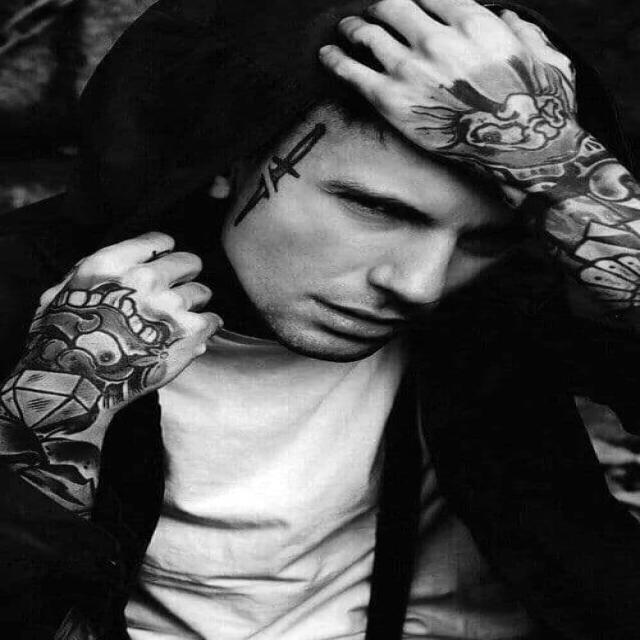front: (248, 109, 512, 345)
